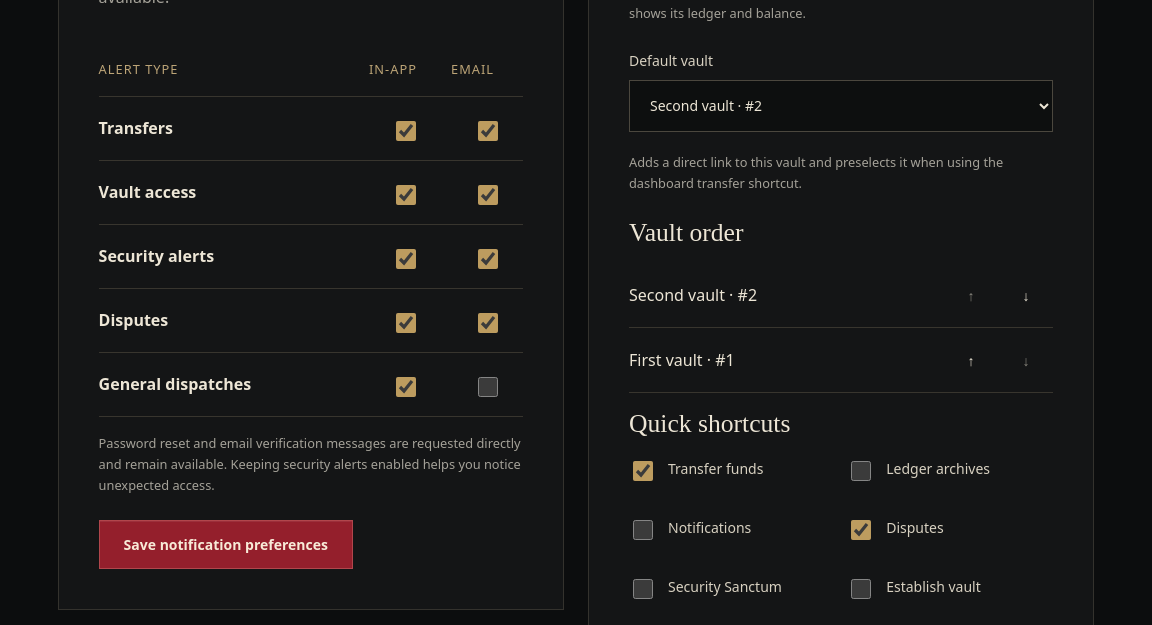
Scenario: vault order, default, visibility and shortcuts are saved together
The image size is (1152, 625).
(page scrolled)
Click the button named "Move vault 1 up" at (971, 360), box [943,336,998,384]
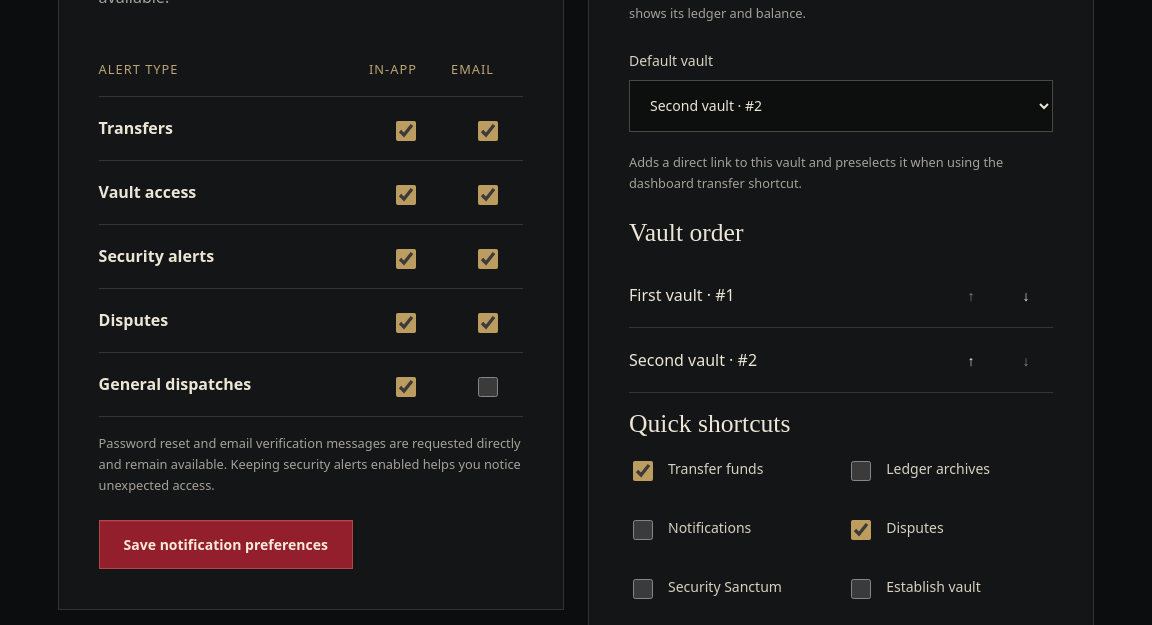
Select "First vault · #1" in the dropdown labelled "Default vault" at (841, 106), box [629,80,1053,132]
(page scrolled)
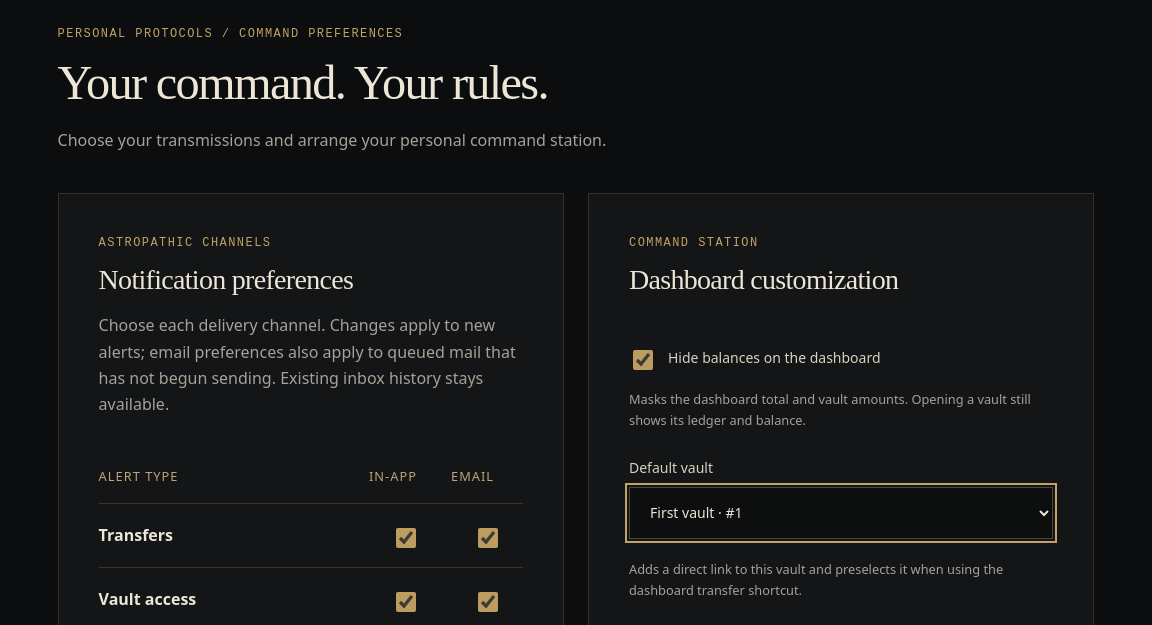
Click the checkbox labelled "Hide balances on the dashboard" at (643, 360), box [633,350,653,370]
(page scrolled)
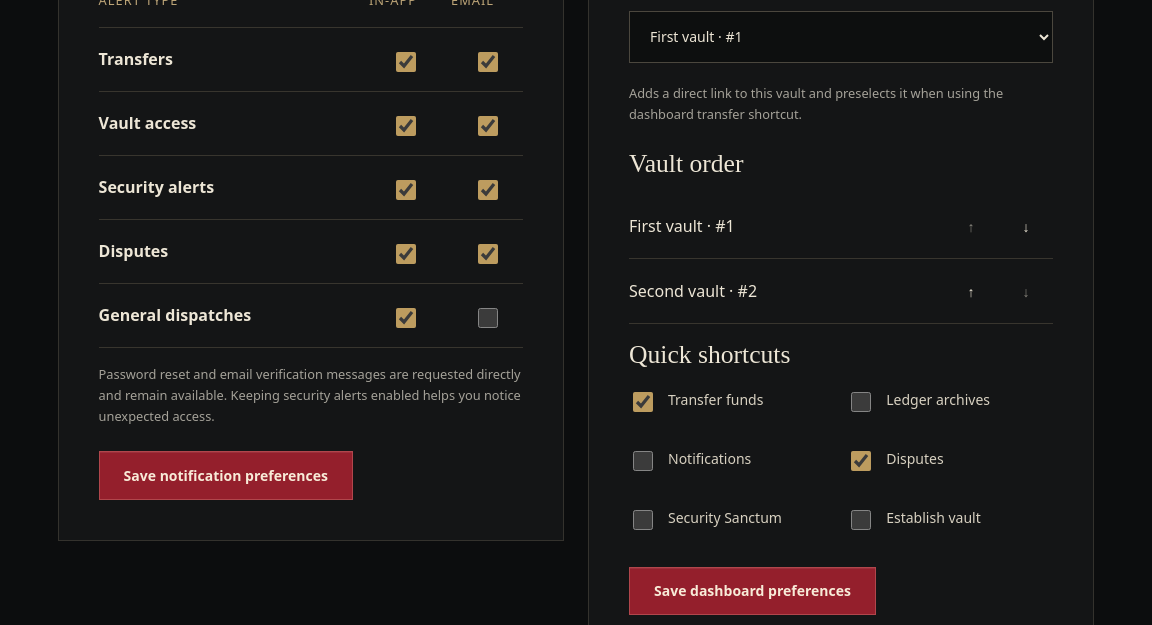
Click the checkbox labelled "Notifications" at (643, 461), box [633,451,653,471]
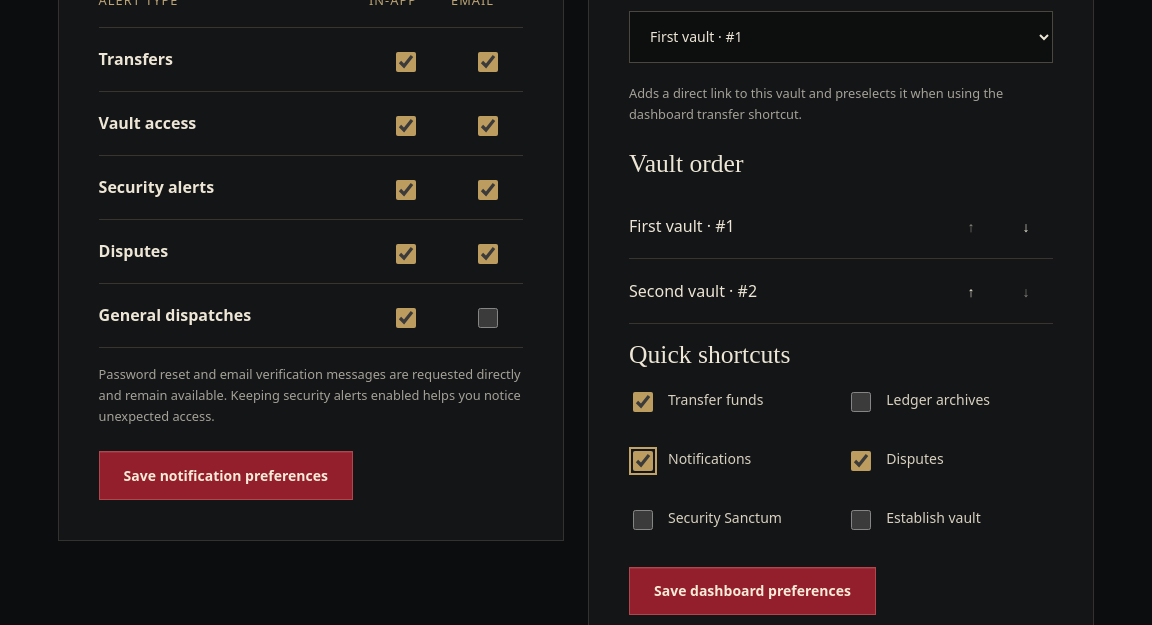
Click the button "Save dashboard preferences" at (752, 591), box [629,567,876,615]
(page scrolled)
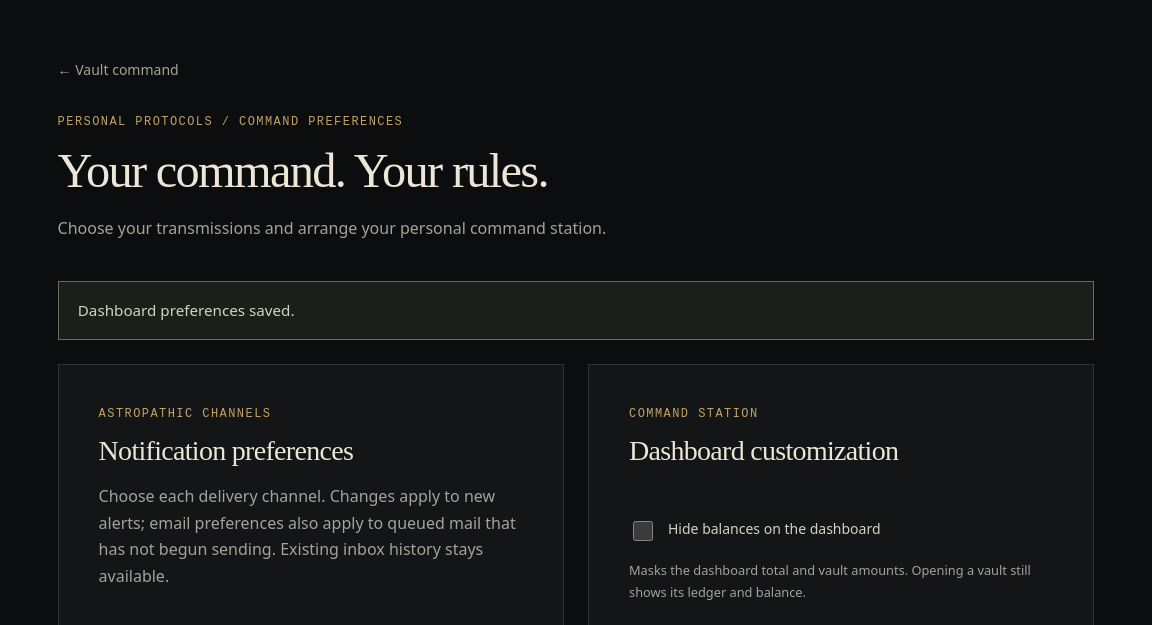
expect the text "Dashboard preferences saved." is shown: met, box [58,281,1094,340]
